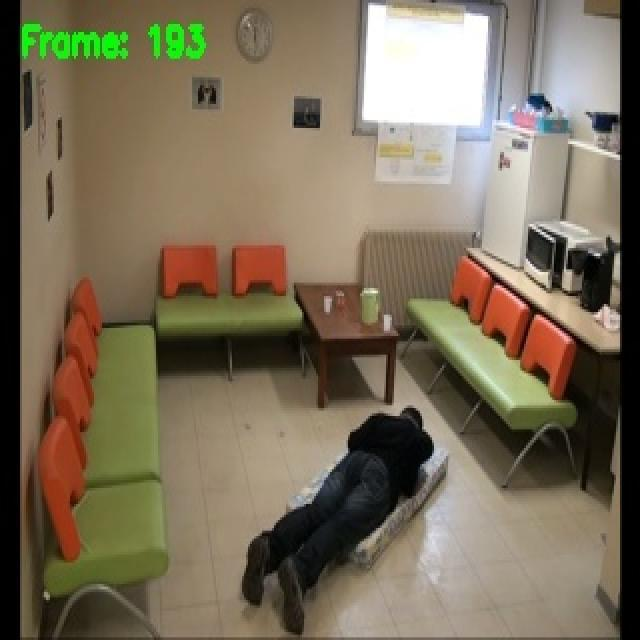fall: (239, 406, 431, 640)
